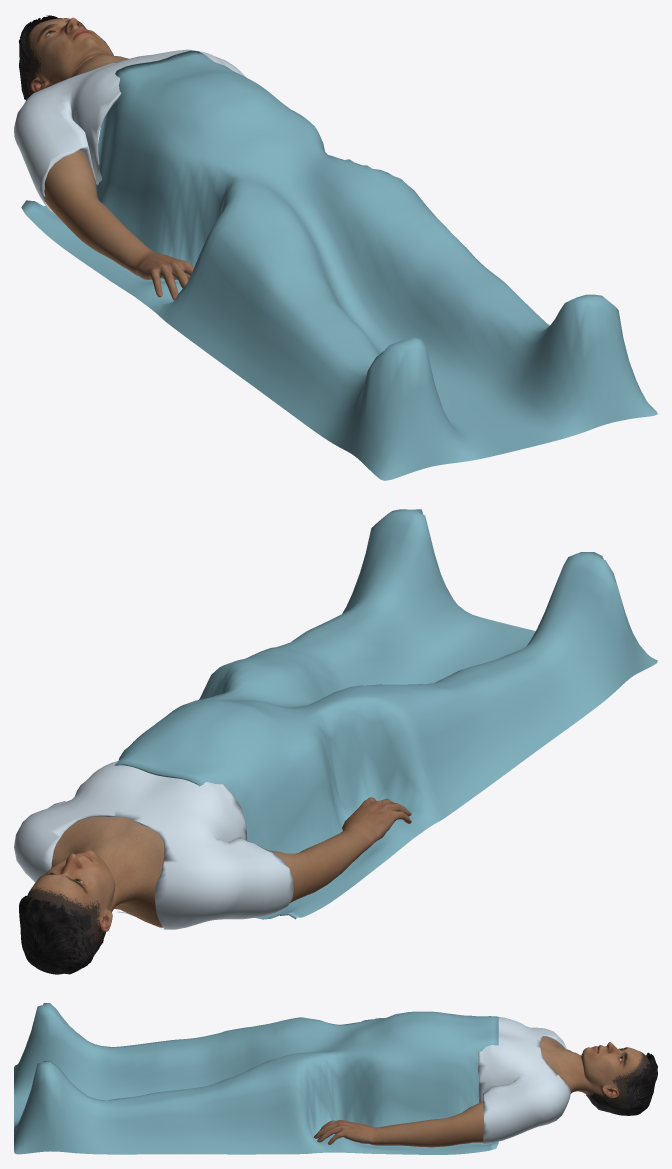
The picture shows the model from 3 angles, top to bottom: view 1: azimuth 30°, elevation 25°; view 2: azimuth 150°, elevation 25°; view 3: azimuth 270°, elevation 25°; orthographic projection. The views are drawn at different scales.
Visible parts, largest first — view 1: sheet, gown, arms, body, hair; view 2: sheet, gown, body, arms, hair; view 3: sheet, gown, body, arms, hair.
Part boxes in pixels (x1,y1,x2,y2): sheet: (21,50,657,480); gown: (14,49,246,212); arms: (44,150,327,299); body: (23,17,128,95); hair: (18,15,61,100); sheet: (114,509,657,919); gown: (14,760,293,929); body: (27,816,164,950); arms: (269,797,411,902); hair: (19,895,105,974); sheet: (14,1003,498,1154); gown: (478,1017,570,1143); body: (540,1036,650,1106); arms: (313,1102,483,1147); hair: (586,1052,657,1115).
Bounding box in the file's own units: 0.6434 × 0.31 × 1.95.
Materials: 8 (6 with a texture image).
